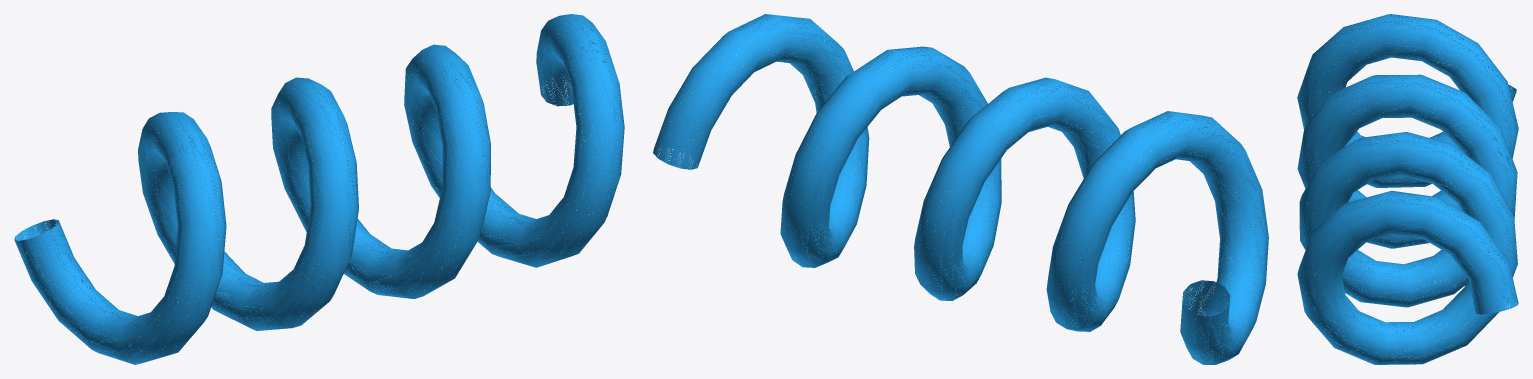
Rendered from helix.glb.
3 renders of one model, left to right at view 1: azimuth 30°, elevation 25°; view 2: azimuth 150°, elevation 25°; view 3: azimuth 270°, elevation 25°, orthographic. The views are drawn at different scales.
Visible parts, largest first — view 1: MyParametricCurve; view 2: MyParametricCurve; view 3: MyParametricCurve.
Boxes of the visible parts, x1,y1,x2,y2 form: MyParametricCurve: (14,14,624,364); MyParametricCurve: (653,14,1268,364); MyParametricCurve: (1297,14,1518,364).
Bounding box in the file's own units: 13.46 × 4.99 × 4.98.
